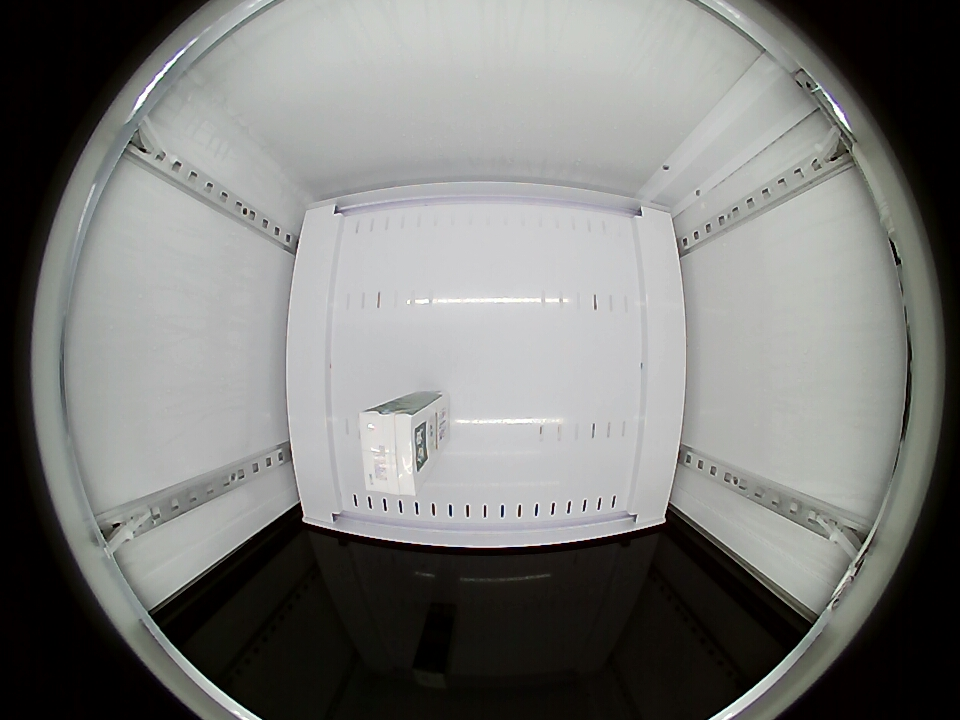jindian: (359, 401, 433, 494)
